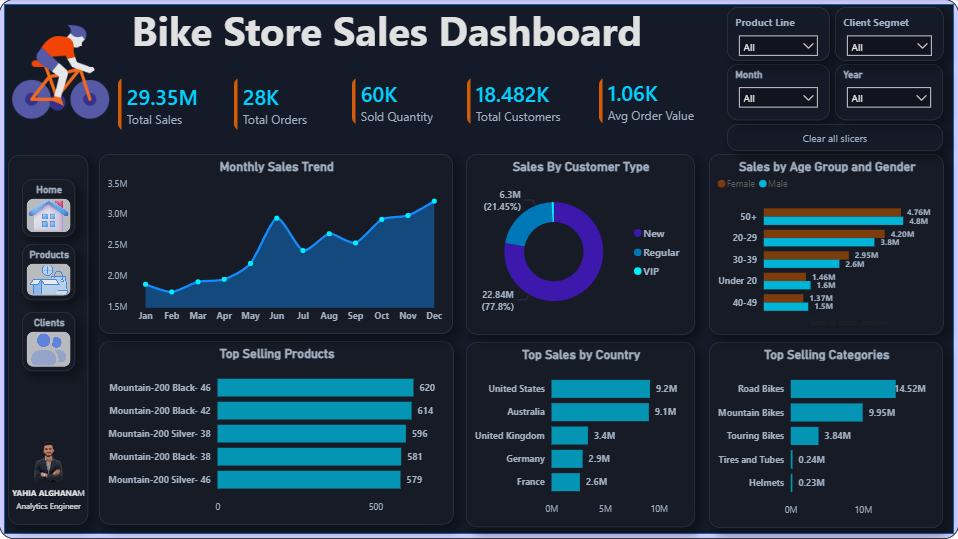

The page's visual inventory and layout, read from the dashboard file:
{"tool":"powerbi","page":{"name":"Overview","canvas":[1280,720],"ordinal":0},"visuals":[{"type":"shape","box":[0,0,1280,720],"z":0},{"type":"textbox","box":[172,0,865.3,86.7],"z":1000},{"type":"shape","box":[12.4,207.8,107.4,492.7],"z":2000},{"type":"cardVisual","title":"Total Sales ","fields":{"Data":["Sum(fact_sales.sales_amount)"]},"box":[141.8,86.7,200.9,107.4],"z":3000},{"type":"cardVisual","fields":{"Data":["Count(fact_sales.customer_key)"]},"box":[607,86.7,183.1,99.1],"z":4000},{"type":"cardVisual","fields":{"Data":["fact_sales.Total Orders"]},"box":[295.9,86.7,200.9,107.4],"z":5000},{"type":"cardVisual","fields":{"Data":["fact_sales.Sold Quantity"]},"box":[452.8,86.7,199.6,99.1],"z":6000},{"type":"clusteredBarChart","title":"Top Selling Categories","fields":{"Category":["dim_products.sub_category"],"Y":["Sum(fact_sales.sales_amount)"]},"box":[946.4,457.8,312.3,248.4],"z":7000},{"type":"barChart","title":"Top Sales by Country","fields":{"Y":["Sum(fact_sales.sales_amount)"],"Category":["dim_customers.country"]},"box":[622.3,457.8,305.2,247.2],"z":8000},{"type":"barChart","title":"Top Selling Products","fields":{"Category":["dim_products.product_name"],"Y":["Sum(fact_sales.quantity)"]},"box":[133.7,455.5,473.2,244.9],"z":9000},{"type":"donutChart","title":"Sales By Customer Type","fields":{"Category":["dim_customers.customer_segment"],"Y":["Sum(fact_sales.sales_amount)"]},"box":[622.3,207,305.2,241.3],"z":10000},{"type":"areaChart","title":"Monthly Sales Trend","fields":{"Y":["Sum(fact_sales.sales_amount)"],"Category":["dim_date.order_month"]},"box":[133.7,207,472,240.1],"z":11000},{"type":"clusteredBarChart","title":"Sales by Age Group and Gender","fields":{"Category":["dim_customers.age_group"],"Y":["Sum(fact_sales.sales_amount)"],"Series":["dim_customers.gender"]},"box":[946.4,207,313.5,241.3],"z":12000},{"type":"actionButton","title":"Home","box":[31.1,240.3,70.8,77.3],"z":13000},{"type":"slicer","title":"Year","fields":{"Values":["dim_date.order_year"]},"box":[1114.7,86.7,144,74.7],"z":14000},{"type":"slicer","title":"Month","fields":{"Values":["dim_date.order_month"]},"box":[970.7,86.7,137.3,74.7],"z":15000},{"type":"actionButton","title":"Products","box":[31.1,327.2,70.8,75.1],"z":16000},{"type":"actionButton","title":"Clients","box":[31.1,417.4,70.8,79.4],"z":17000},{"type":"image","box":[12.7,0,138.1,194.5],"z":18000},{"type":"slicer","fields":{"Values":["dim_products.product_line"]},"box":[970.7,10.7,137.3,72],"z":19000},{"type":"slicer","fields":{"Values":["dim_customers.customer_segment"]},"box":[1114.7,10.7,145.3,72],"z":20000},{"type":"cardVisual","fields":{"Data":["fact_sales.Avg Order Value"]},"box":[782.7,86.7,177.3,98.7],"z":21000},{"type":"actionButton","box":[970.7,166.7,288,36],"z":22000},{"type":"image","box":[25.3,582.7,81.3,61.3],"z":22001},{"type":"textbox","box":[12,644,108,48],"z":22002}]}

Visuals, with their boxes in screenshot pixels (x1, y1, x2, y2), scaled from the page's 1280x720 canvas onto the 958x539 screenshot:
shape: [0,0,957,538]
textbox: [129,0,776,65]
shape: [9,156,90,524]
"Total Sales " cardVisual: [106,65,256,145]
cardVisual - Count(fact_sales.customer_key): [454,65,591,139]
cardVisual - fact_sales.Total Orders: [221,65,372,145]
cardVisual - fact_sales.Sold Quantity: [339,65,488,139]
"Top Selling Categories" clusteredBarChart: [708,343,942,529]
"Top Sales by Country" barChart: [466,343,694,528]
"Top Selling Products" barChart: [100,341,454,524]
"Sales By Customer Type" donutChart: [466,155,694,336]
"Monthly Sales Trend" areaChart: [100,155,453,335]
"Sales by Age Group and Gender" clusteredBarChart: [708,155,943,336]
"Home" actionButton: [23,180,76,238]
"Year" slicer: [834,65,942,121]
"Month" slicer: [727,65,829,121]
"Products" actionButton: [23,245,76,301]
"Clients" actionButton: [23,312,76,372]
image: [10,0,113,146]
slicer - dim_products.product_line: [727,8,829,62]
slicer - dim_customers.customer_segment: [834,8,943,62]
cardVisual - fact_sales.Avg Order Value: [586,65,718,139]
actionButton: [727,125,942,152]
image: [19,436,80,482]
textbox: [9,482,90,518]
